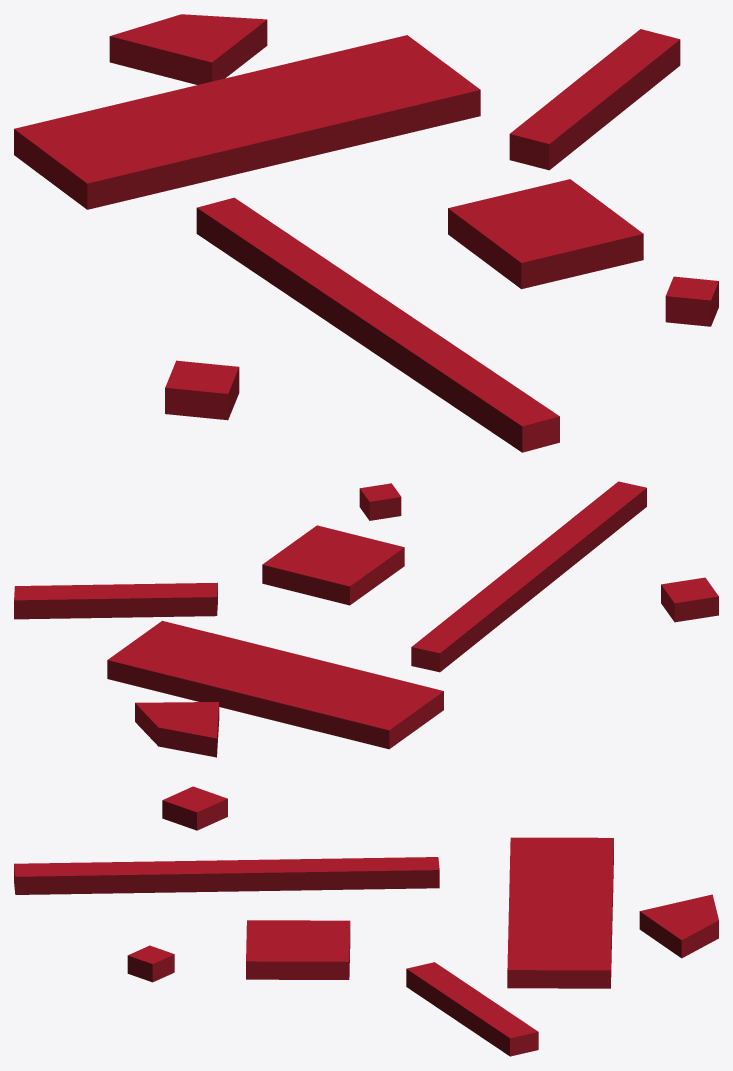
The model's file is rubble_06.fbx.
3 views of the same model, one above another, from view 1: azimuth 30°, elevation 25°; view 2: azimuth 150°, elevation 25°; view 3: azimuth 270°, elevation 25° (orthographic). The views are drawn at different scales.
Parts seen in each view (by area): view 1: rubble_06; view 2: rubble_06; view 3: rubble_06.
Part boxes in pixels (x1=…): rubble_06: x1=14, y1=14, x2=718, y2=452; rubble_06: x1=14, y1=481, x2=718, y2=757; rubble_06: x1=14, y1=786, x2=718, y2=1056.
Size of the model in its own units: 304 by 10.27 by 360.
